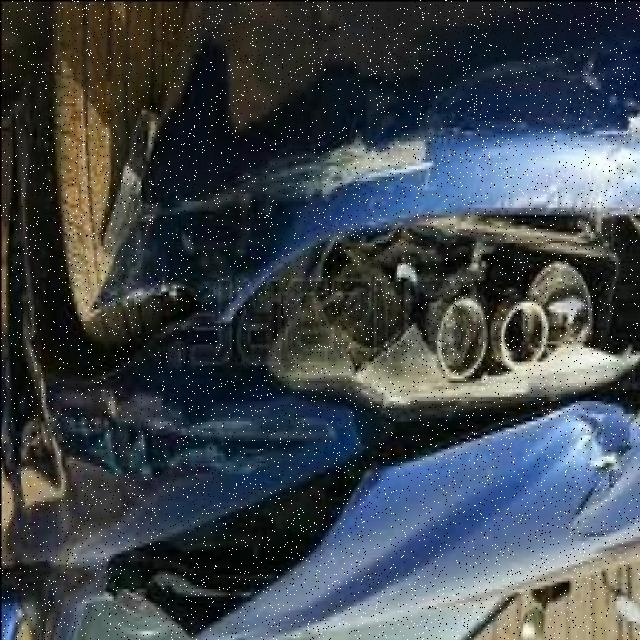damage: (12, 7, 639, 637)
